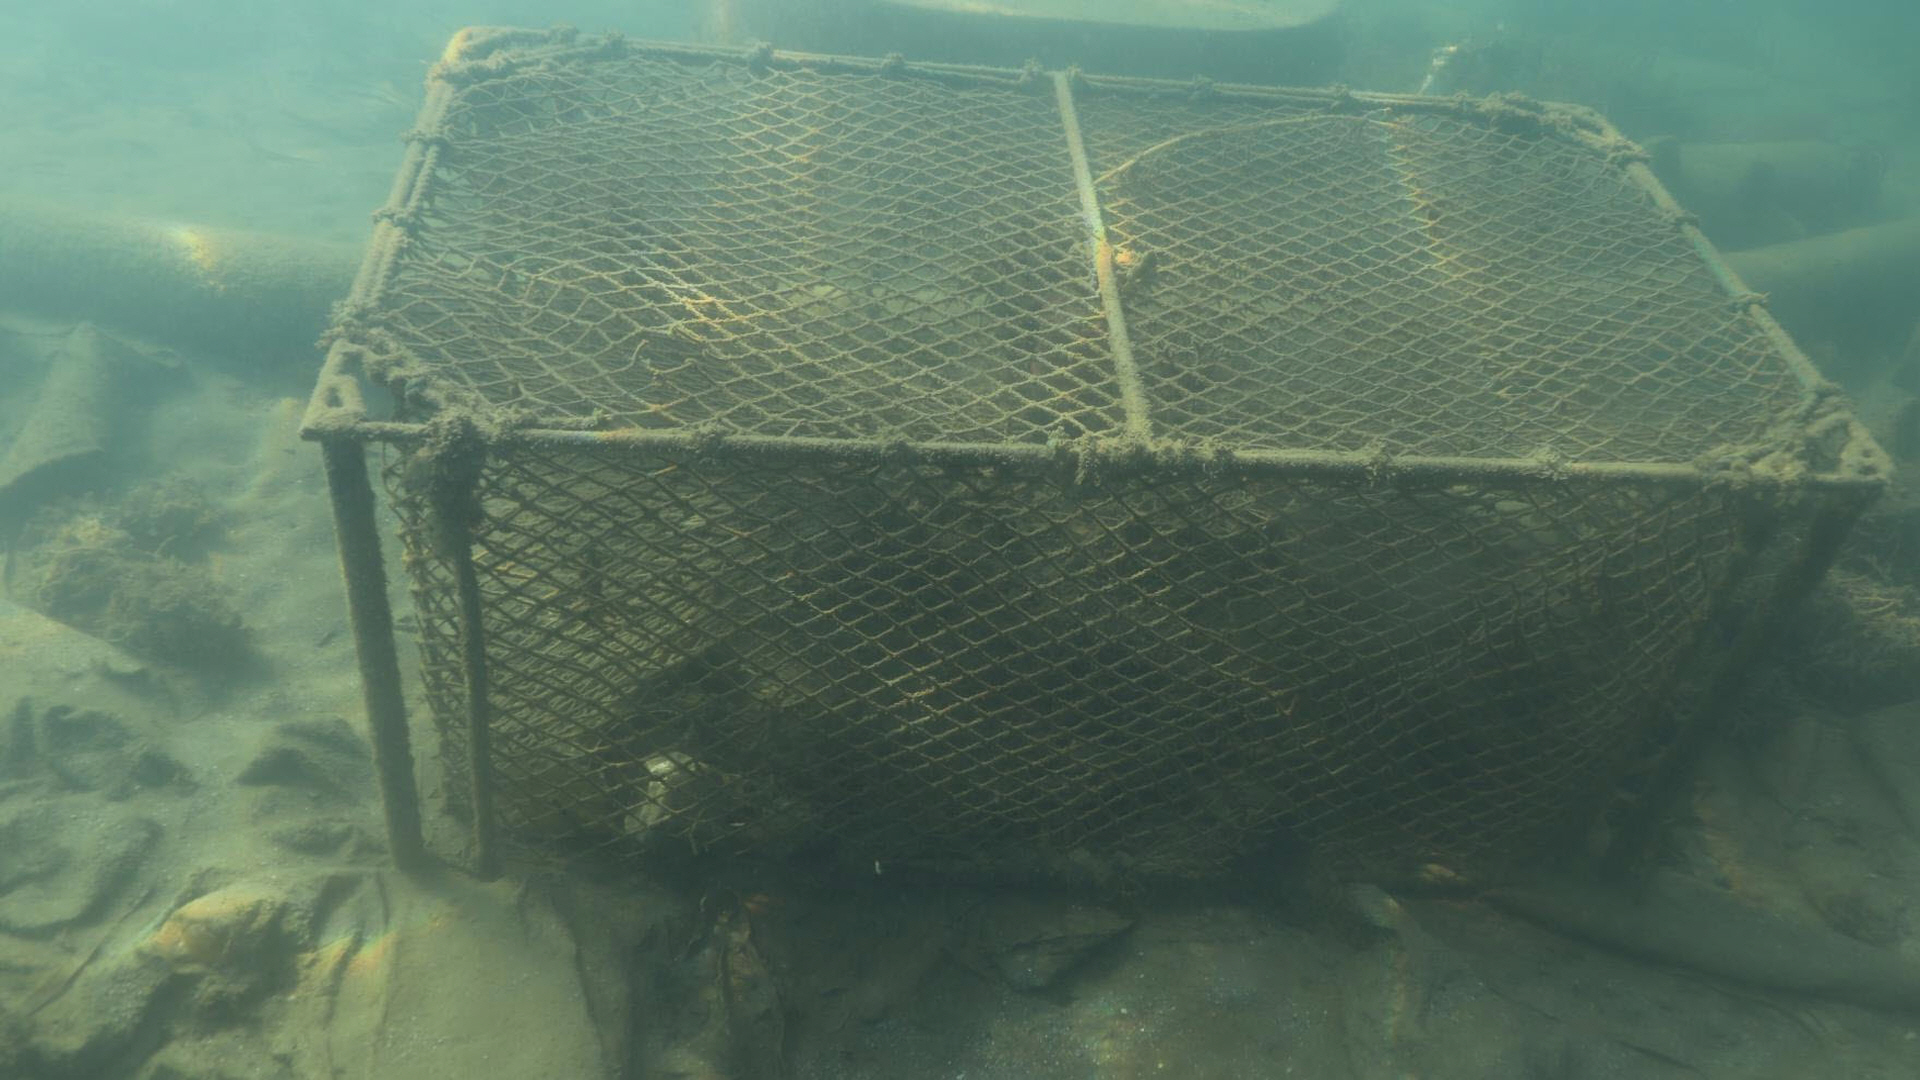rectangular fish trap: (297, 22, 1895, 884)
